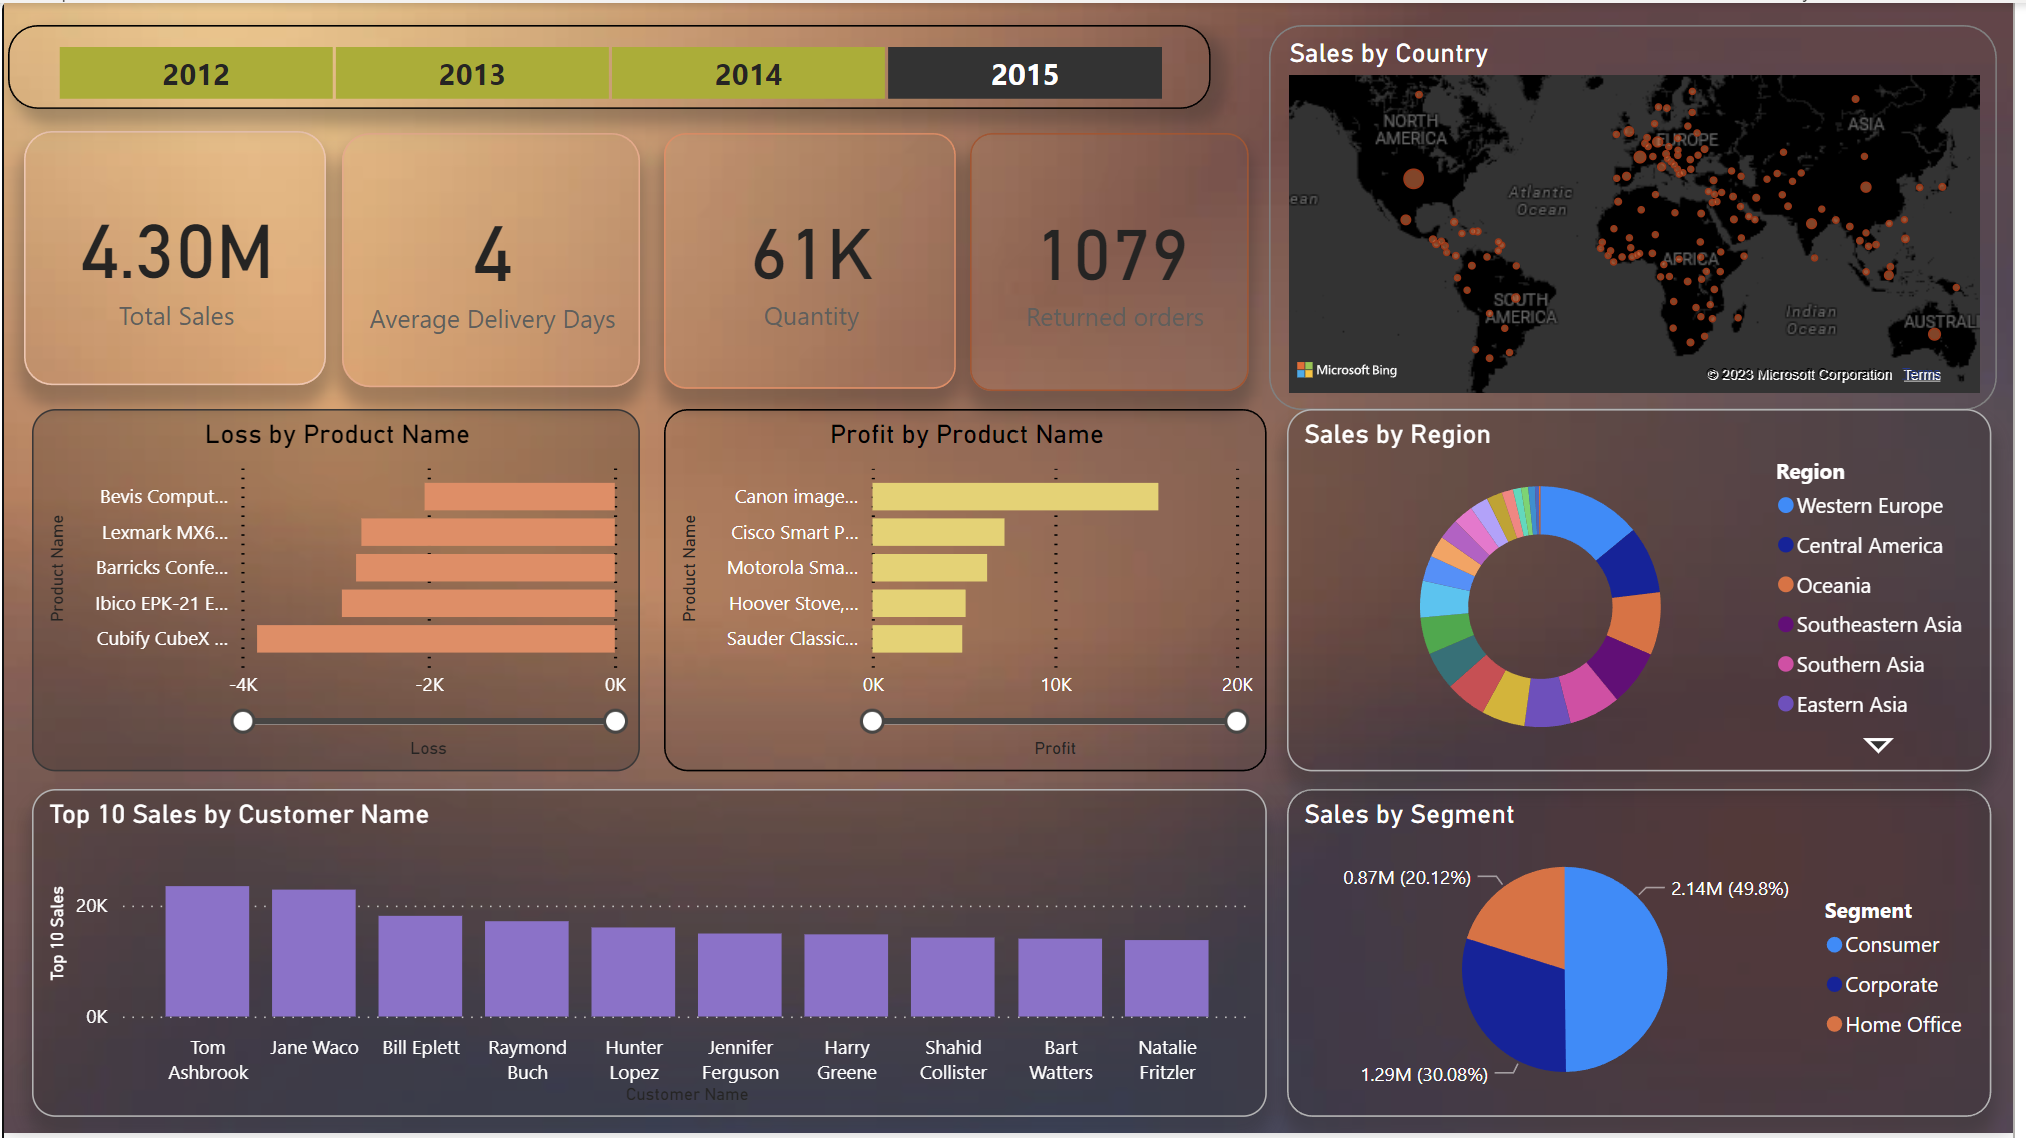

What the dashboard file says about the page in this screenshot:
{"tool":"powerbi","page":{"name":"Page 1","canvas":[1280,720],"ordinal":0},"visuals":[{"type":"card","fields":{"Values":["Orders.Sales"]},"box":[12.7,81.6,192.5,161.9],"z":0},{"type":"card","fields":{"Values":["Orders.Delivery Days"]},"box":[215.5,82.9,190,161.9],"z":1000},{"type":"card","fields":{"Values":["Orders.Quantity"]},"box":[420.7,82.9,186.1,163.2],"z":2000},{"type":"slicer","fields":{"Values":["Orders.Year"]},"box":[2.5,14,766.2,53.5],"z":3000},{"type":"card","fields":{"Values":["Returns.Return orders"]},"box":[615.8,82.9,177.2,164.5],"z":4000},{"type":"map","fields":{"Category":["Orders.Country"],"Size":["Orders.Sales"]},"box":[805.3,13.6,464.1,245.7],"z":5000},{"type":"clusteredBarChart","fields":{"Category":["Orders.Product Name"],"Y":["Orders.Profit"]},"box":[420.7,258.8,383.7,230.8],"z":6000},{"type":"clusteredBarChart","fields":{"Category":["Orders.Product Name"],"Y":["Orders.Profit"]},"box":[17.8,258.8,387.6,230.8],"z":7000},{"type":"pieChart","fields":{"Category":["Orders.Segment"],"Y":["Orders.Sales"]},"box":[817.2,501,448.8,209.1],"z":8000},{"type":"donutChart","fields":{"Y":["Orders.Sales"],"Category":["Orders.Region"]},"box":[817.2,258.8,448.8,230.8],"z":9000},{"type":"clusteredColumnChart","fields":{"Category":["Orders.Customer Name"],"Y":["Orders.Sales"]},"box":[17.8,501,786.6,209.1],"z":10000}]}

Visuals, with their boxes in screenshot pixels (x1, y1, x2, y2), scaled from the page's 1280x720 canvas onto the 2026x1138 screenshot:
card - Orders.Sales: left=20, top=129, right=325, bottom=385
card - Orders.Delivery Days: left=341, top=131, right=642, bottom=387
card - Orders.Quantity: left=666, top=131, right=960, bottom=389
slicer - Orders.Year: left=4, top=22, right=1217, bottom=107
card - Returns.Return orders: left=975, top=131, right=1255, bottom=391
map - Orders.Country x Orders.Sales: left=1275, top=21, right=2009, bottom=410
clusteredBarChart - Orders.Product Name x Orders.Profit: left=666, top=409, right=1273, bottom=774
clusteredBarChart - Orders.Product Name x Orders.Profit: left=28, top=409, right=642, bottom=774
pieChart - Orders.Segment x Orders.Sales: left=1293, top=792, right=2004, bottom=1122
donutChart - Orders.Sales x Orders.Region: left=1293, top=409, right=2004, bottom=774
clusteredColumnChart - Orders.Customer Name x Orders.Sales: left=28, top=792, right=1273, bottom=1122
